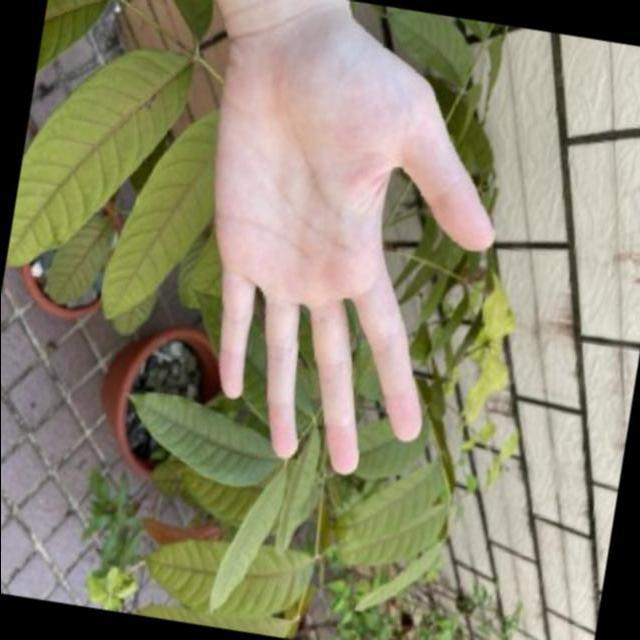hand: (121, 0, 536, 510)
